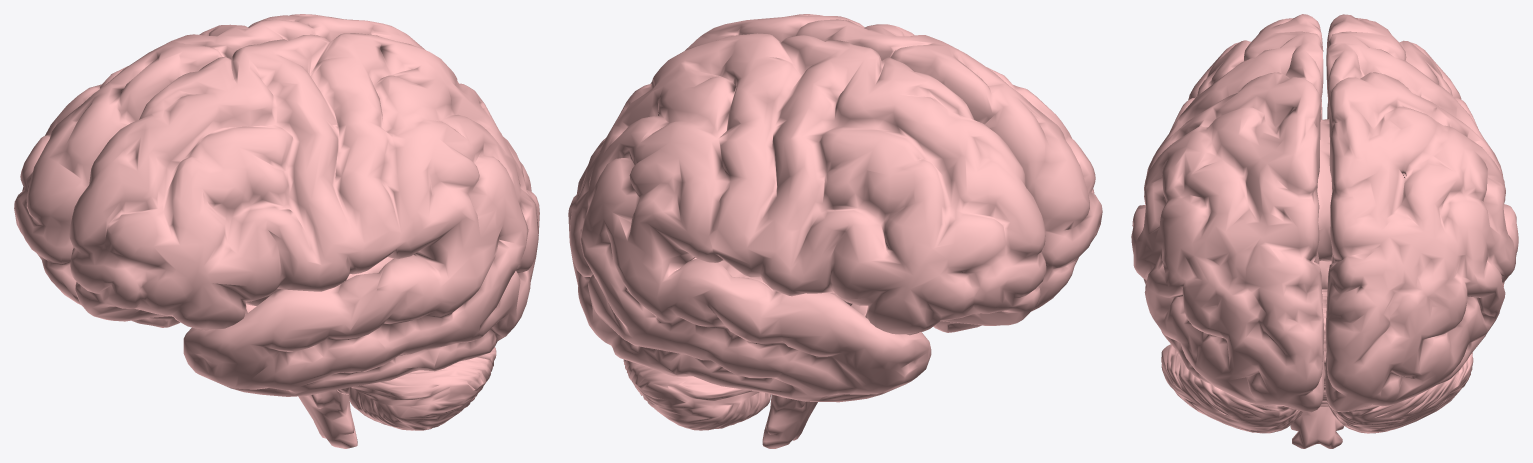
Rendered from brain-simple-mesh.fbx.
The picture shows the model from 3 angles, left to right: view 1: azimuth 30°, elevation 25°; view 2: azimuth 150°, elevation 25°; view 3: azimuth 270°, elevation 25°; orthographic projection. The views are drawn at different scales.
Visible parts, largest first — view 1: default; view 2: default; view 3: default.
Part boxes in pixels (bbox=[...]): default: bbox=[14, 14, 539, 448]; default: bbox=[568, 14, 1102, 448]; default: bbox=[1131, 14, 1518, 448].
Bounding box in the file's own units: 6.4 × 5.61 × 5.29.
